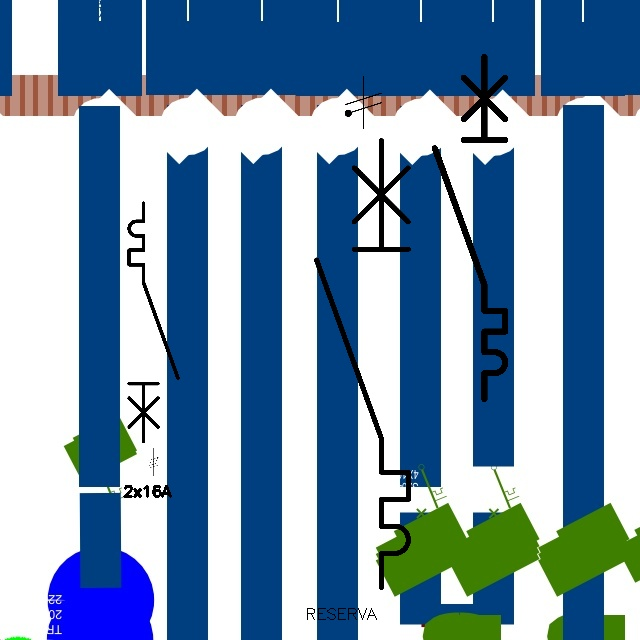interruptor_termomagnetico: (305, 129, 420, 599), (426, 48, 514, 408), (123, 197, 184, 448)
